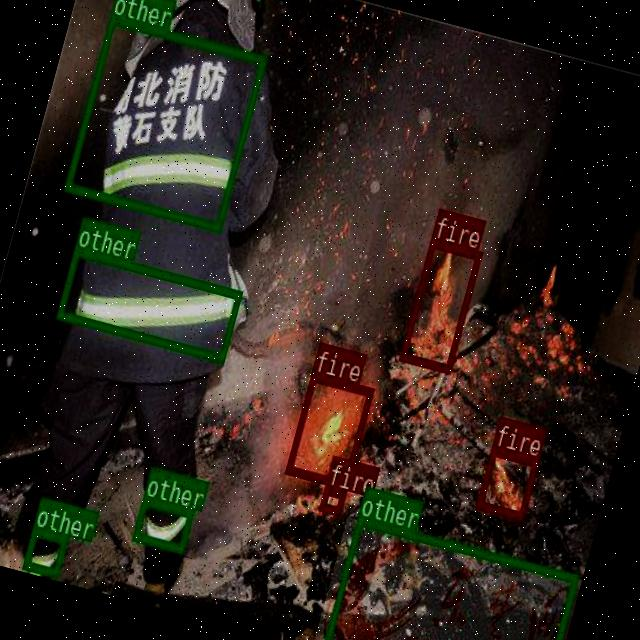fire: (398, 238, 482, 372), (284, 372, 372, 488), (474, 445, 539, 520), (318, 482, 345, 514)
